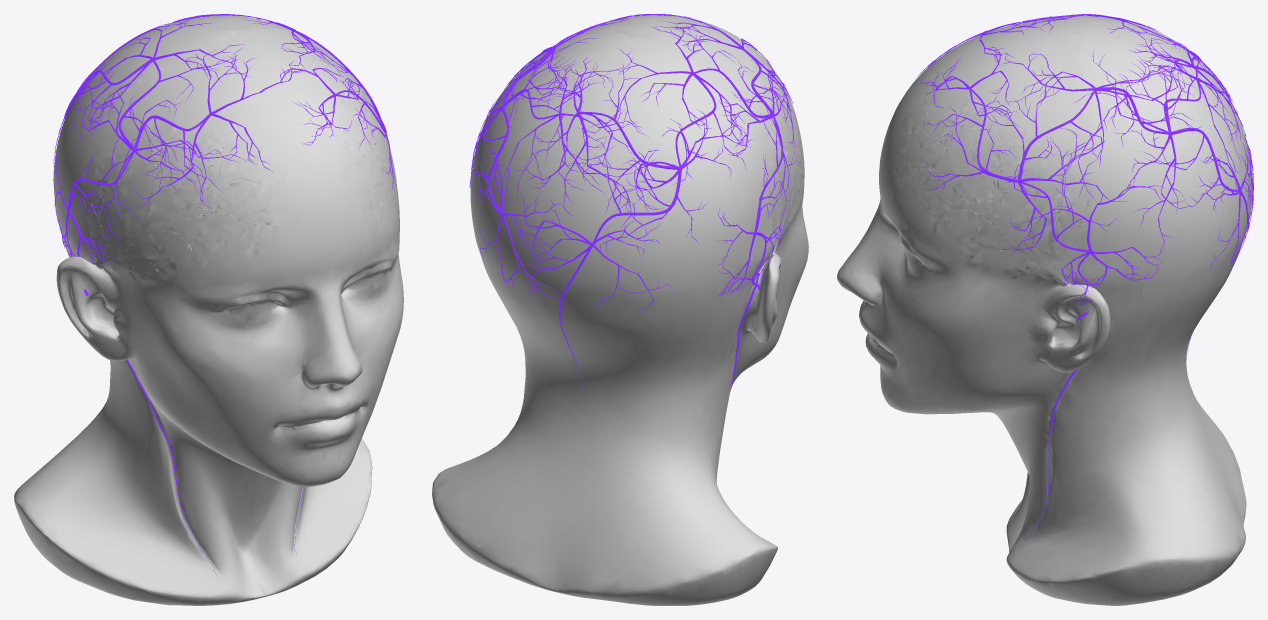
The model's file is cymba-neural-mannequin-polished-mobile.glb.
3 renders of one model, left to right at view 1: azimuth 30°, elevation 25°; view 2: azimuth 150°, elevation 25°; view 3: azimuth 270°, elevation 25°, orthographic. The views are drawn at different scales.
Visible parts, largest first — view 1: Cymba_Marble_Mannequin, Purple_Surface_Nerve_Fibres; view 2: Cymba_Marble_Mannequin, Purple_Surface_Nerve_Fibres; view 3: Cymba_Marble_Mannequin, Purple_Surface_Nerve_Fibres.
Boxes of the visible parts, x1,y1,x2,y2 form: Cymba_Marble_Mannequin: [14, 15, 403, 605]; Purple_Surface_Nerve_Fibres: [53, 14, 394, 574]; Cymba_Marble_Mannequin: [432, 15, 808, 605]; Purple_Surface_Nerve_Fibres: [469, 14, 795, 396]; Cymba_Marble_Mannequin: [837, 16, 1252, 605]; Purple_Surface_Nerve_Fibres: [915, 14, 1253, 539].
Bounding box in the file's own units: 2.74 × 4.27 × 3.06.
